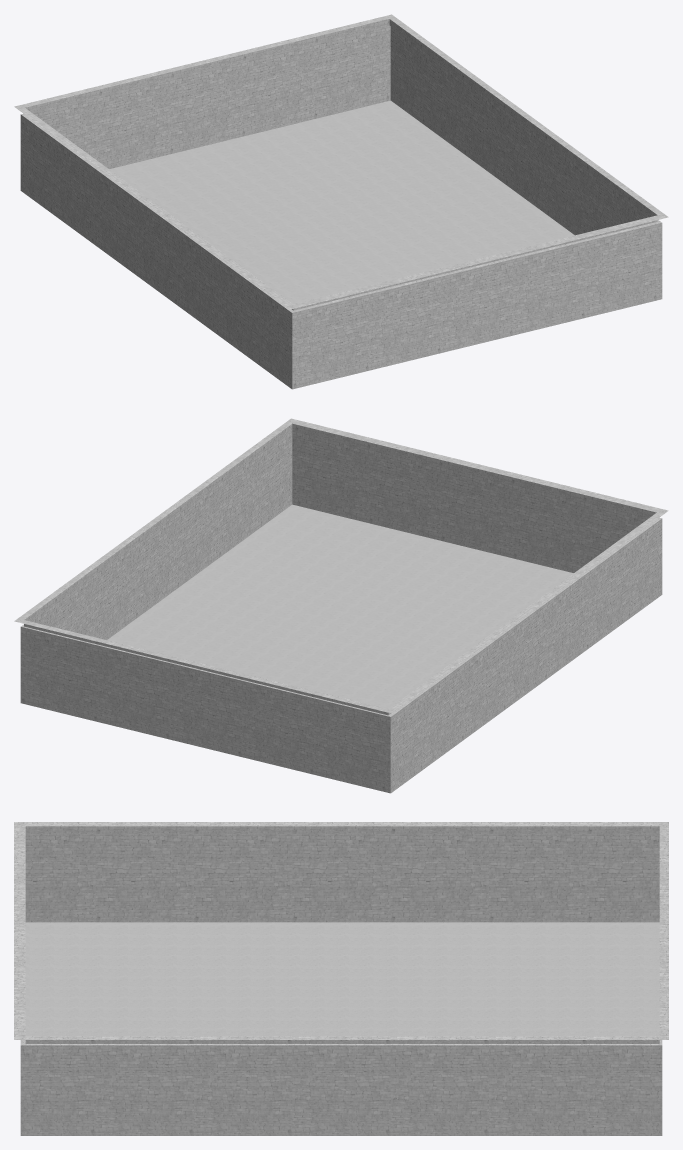
Rendered from Level2.FBX.
3 renders of one model, top to bottom at view 1: azimuth 30°, elevation 25°; view 2: azimuth 150°, elevation 25°; view 3: azimuth 270°, elevation 25°, orthographic. The views are drawn at different scales.
Visible parts, largest first — view 1: Walls, Ground; view 2: Walls, Ground; view 3: Walls, Ground.
Boxes of the visible parts, x1,y1,x2,y2 form: Walls: (14,14,668,389); Ground: (109,100,574,303); Walls: (14,418,668,793); Ground: (107,504,573,708); Walls: (14,822,668,1135); Ground: (25,922,659,1036).
Size of the model in its own units: 4196 by 5331 by 881.
